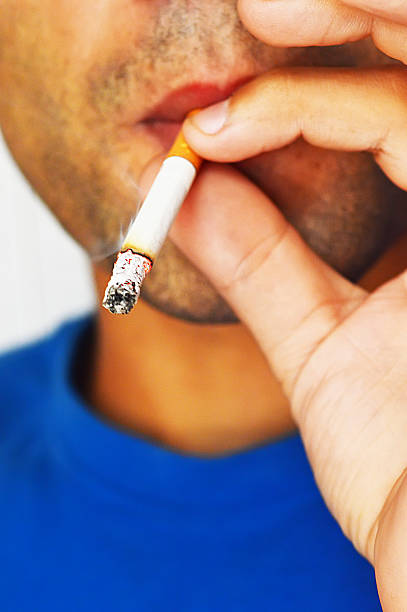cigarette: (104, 125, 208, 318)
